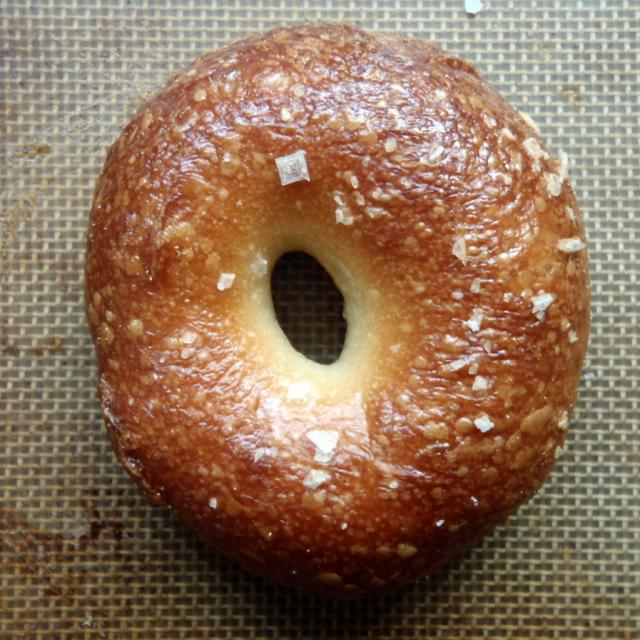Bagel: (86, 14, 592, 594)
